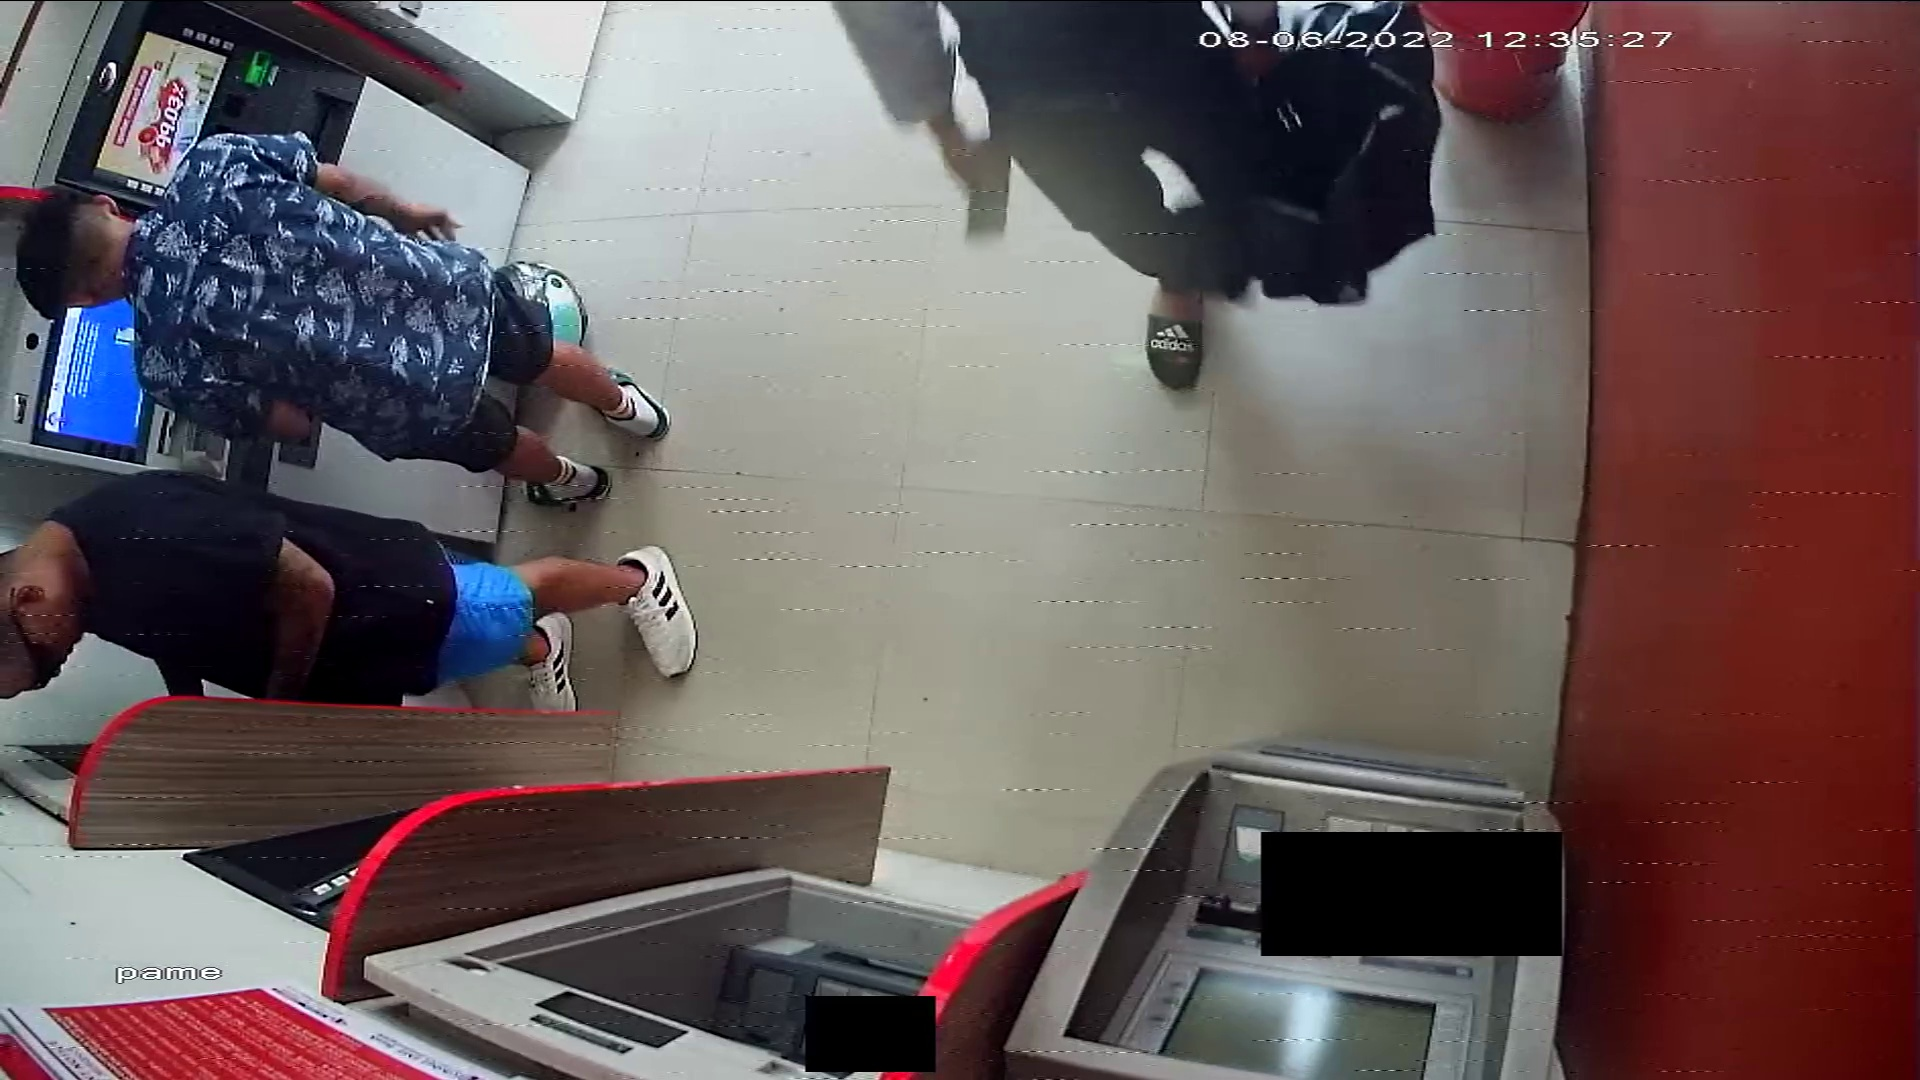helmet: (496, 259, 589, 348)
person: (13, 126, 671, 508), (1, 468, 697, 712)
